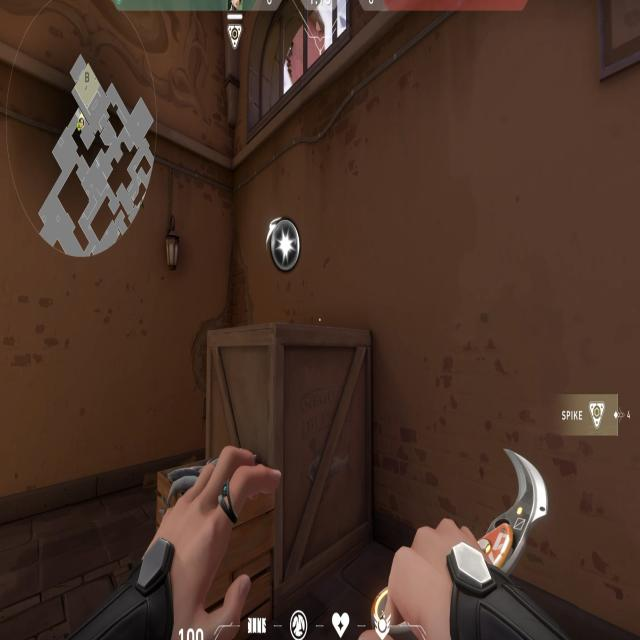B_Main_Wallbang: (158, 200, 308, 518)
Throwables: (241, 0, 360, 163)
